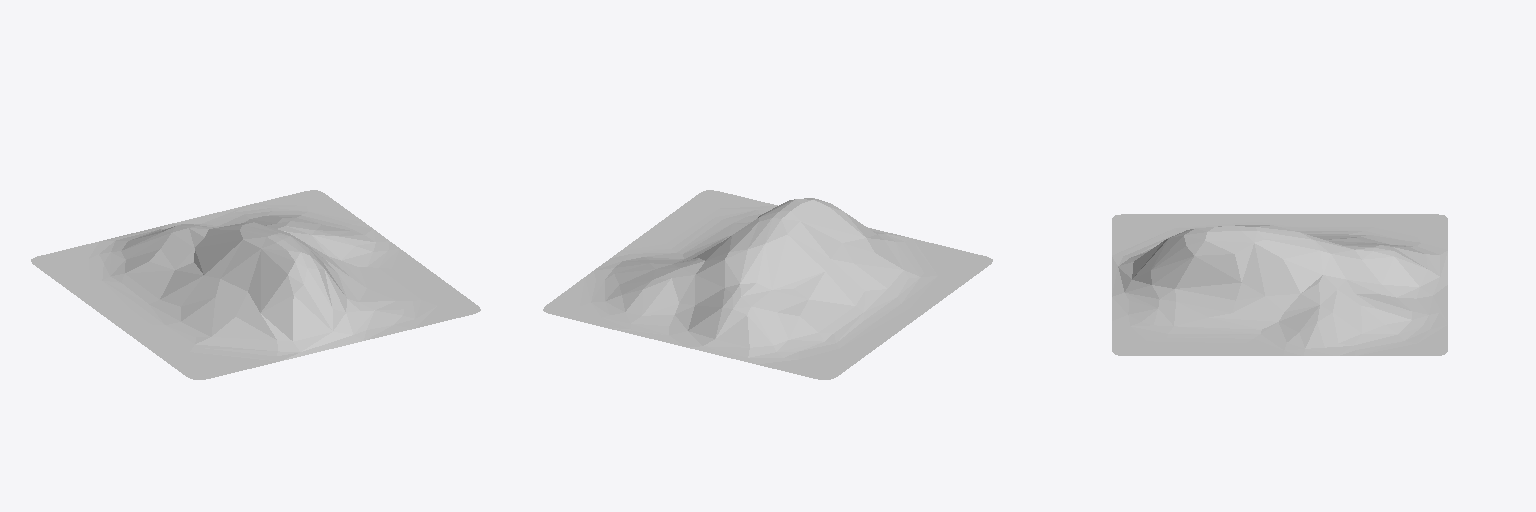
File: Ground04.obj
3 views of the same model, side by side, from view 1: azimuth 30°, elevation 25°; view 2: azimuth 150°, elevation 25°; view 3: azimuth 270°, elevation 25° (orthographic).
Visible parts, largest first — view 1: Plane; view 2: Plane; view 3: Plane.
Boxes of the visible parts, x1=… form: Plane: x1=31, y1=190, x2=480, y2=379; Plane: x1=543, y1=190, x2=992, y2=379; Plane: x1=1112, y1=214, x2=1447, y2=355.
Bounding box in the file's own units: 60.02 × 11.52 × 60.01.